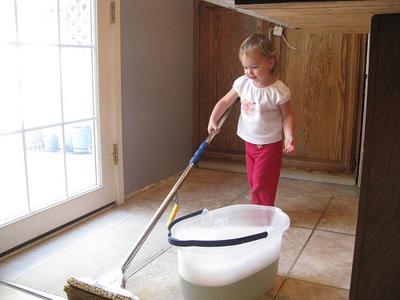person: (207, 34, 298, 208)
